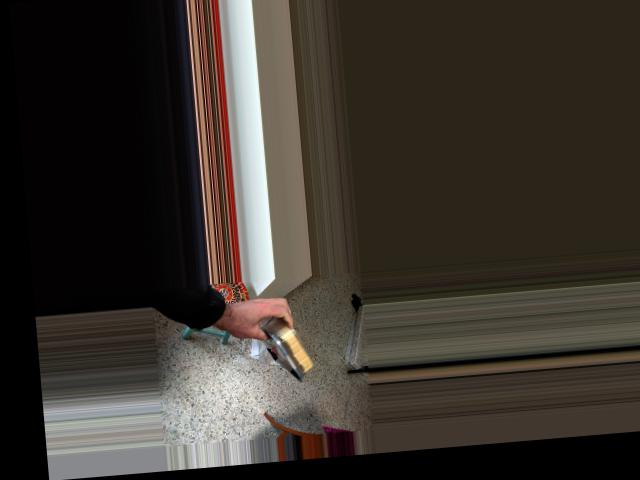cheese: (240, 281, 329, 389)
